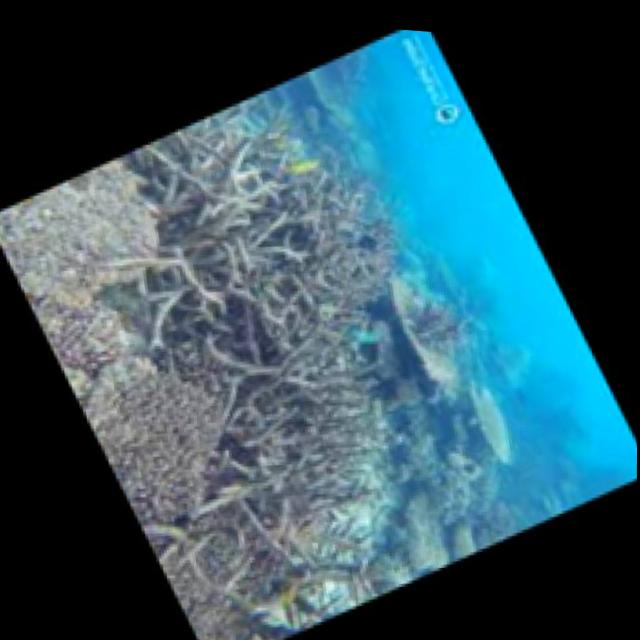Dead Coral: (153, 332, 420, 603), (184, 145, 436, 369), (0, 132, 221, 334), (89, 336, 241, 530)
